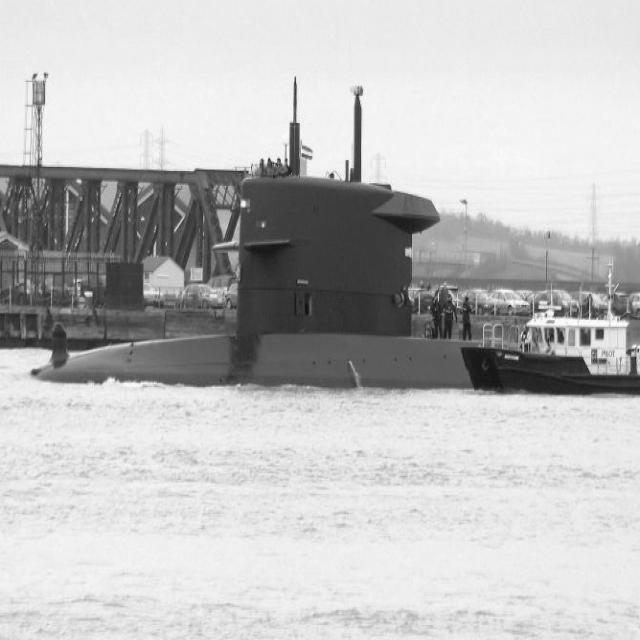submarine: (50, 72, 640, 399)
